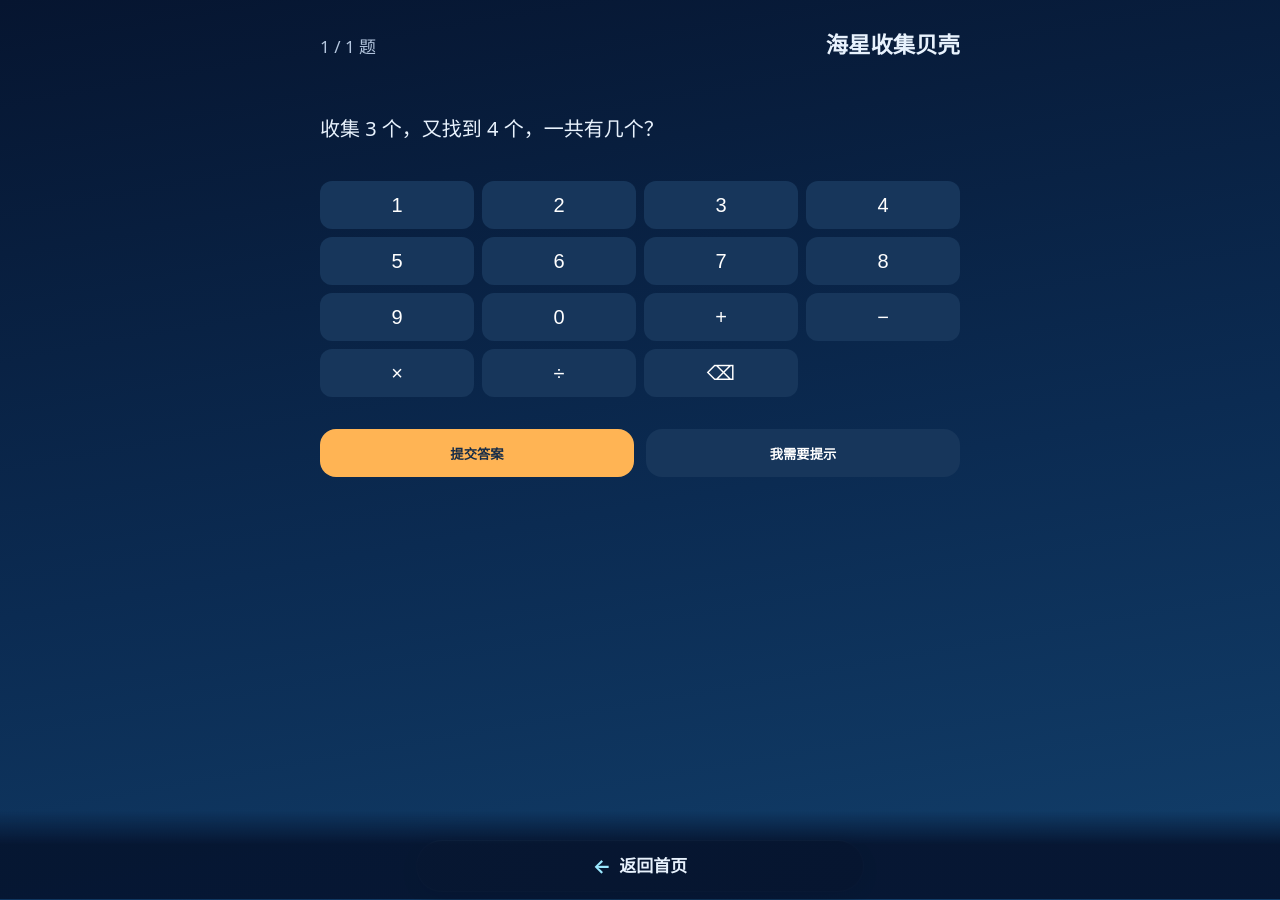
QuestView feedback › 答错显示正向提示，不渲染失败弹窗或 alert
Click the button "8". click: (883, 261)
box: [806,237,960,285]
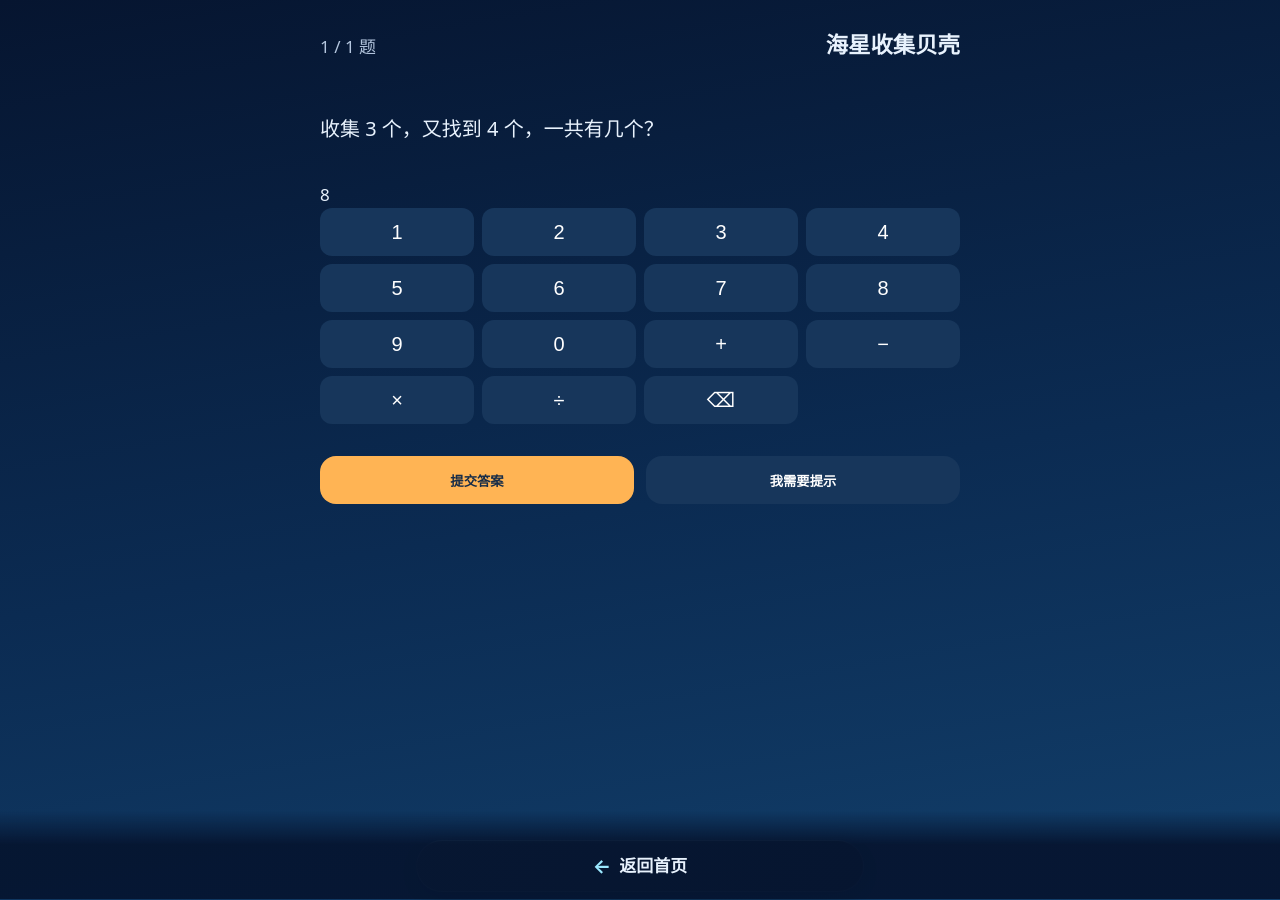
Click the button with test id "action-submit". click: (477, 480)
box: [320,456,634,504]
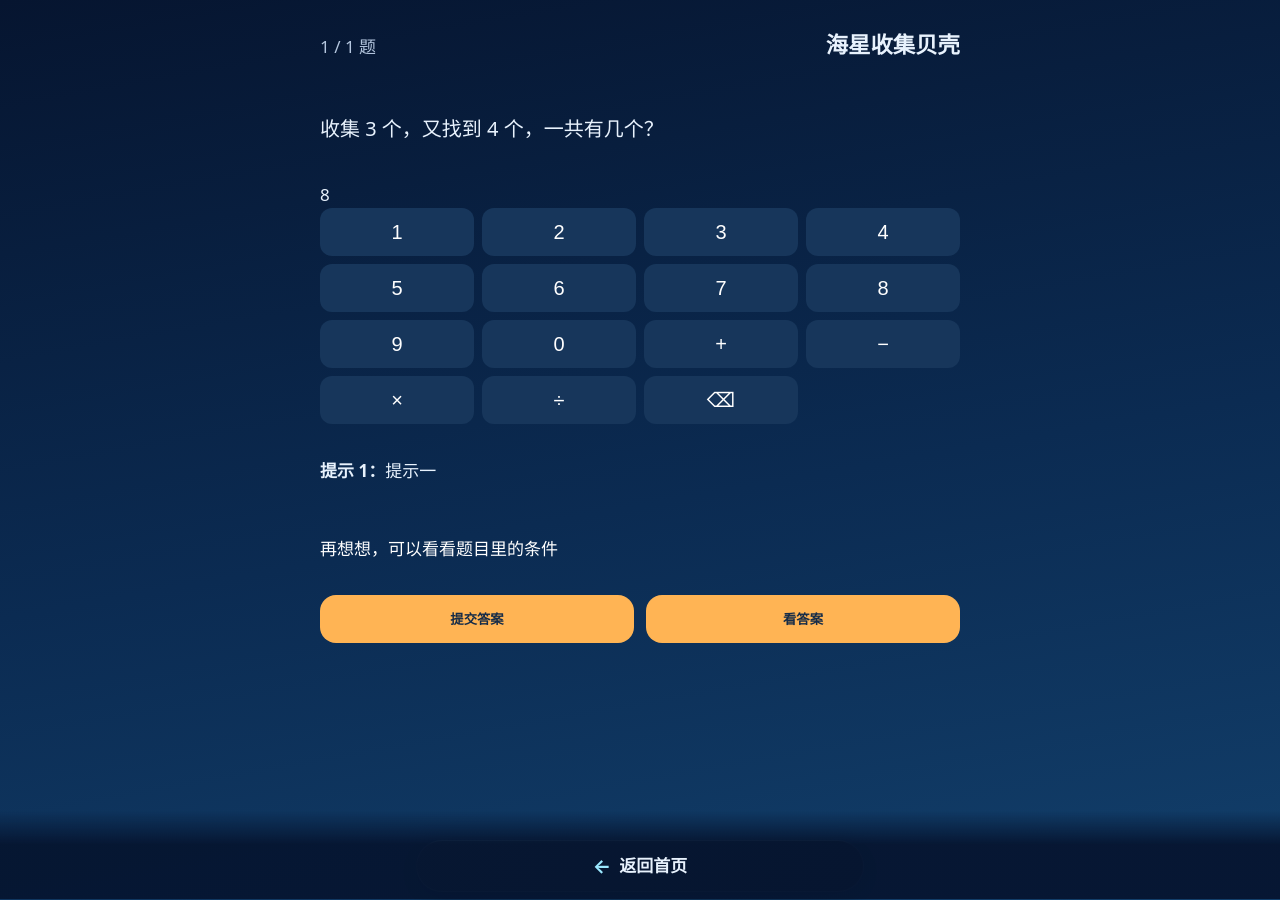
Expected: the text with test id "quiz-feedback" shows "再想想", [320,537,558,560]
Expected: the number of elements with test id "hint-layer" is 1, [320,459,436,482]
Expected: the button with test id "action-reveal" is shown, [646,595,960,643]
